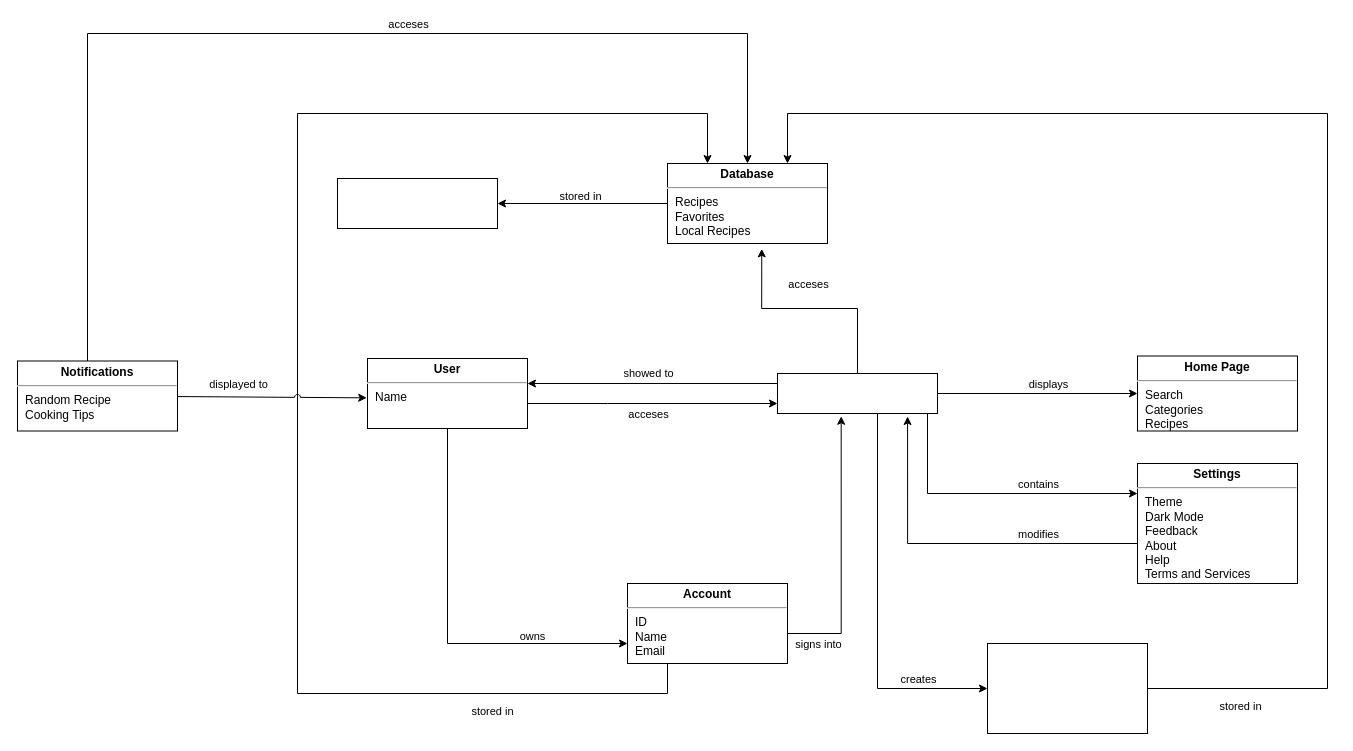
Some shapes in this 1353 by 751 pixel diagram are drawn without their labels. The shapes that lost their labels are listed below. From the top down, each one's centre as x and y in pixels, then its label:
(x=417, y=203): Firestore JSONs
(x=857, y=393): App
(x=1067, y=688): Recipe Food Name Ingredients Instructions Time
